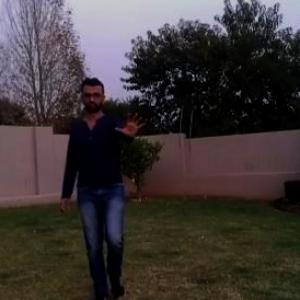follow_hand: (114, 106, 149, 142)
